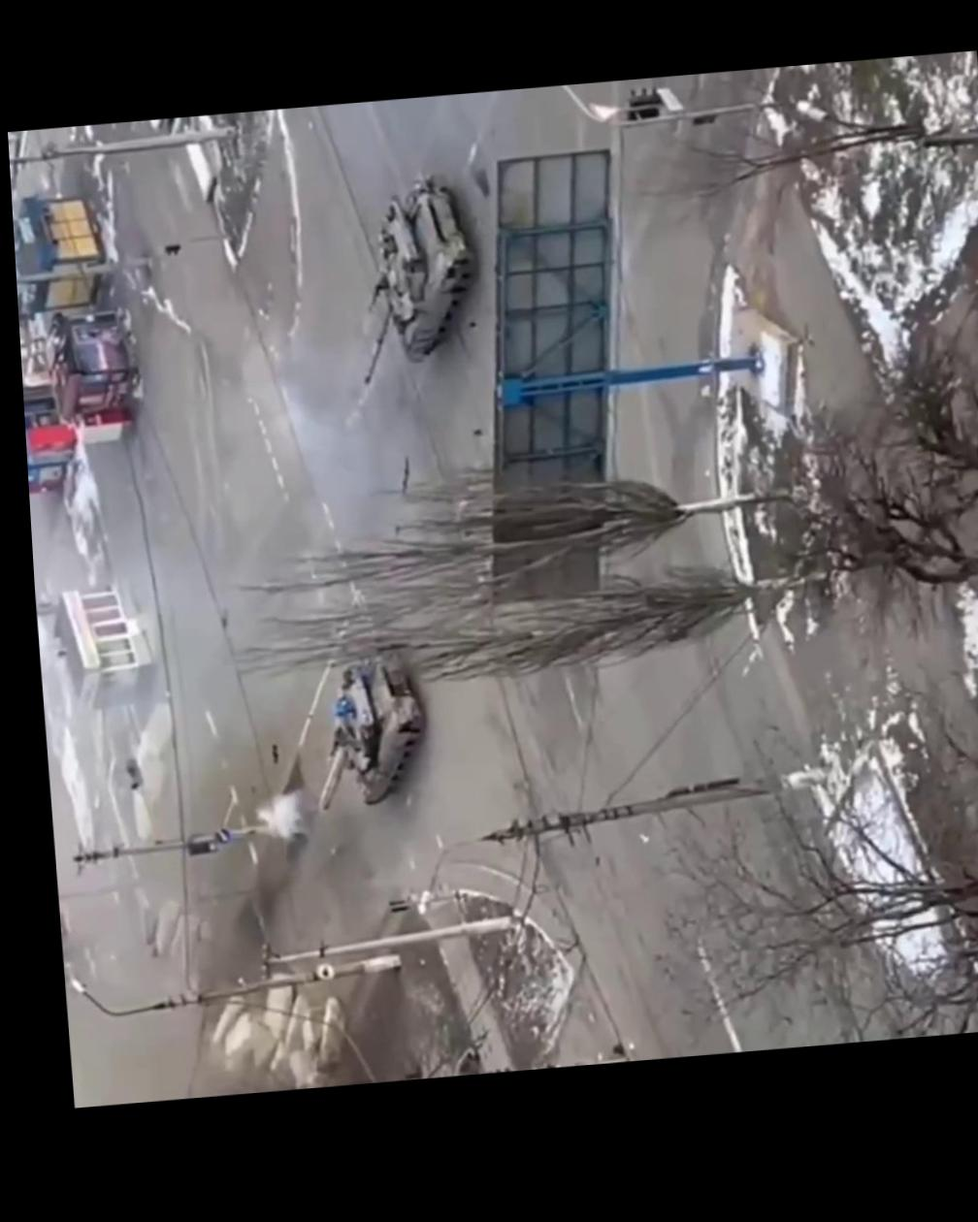tank: (346, 172, 486, 386), (306, 637, 430, 809)
